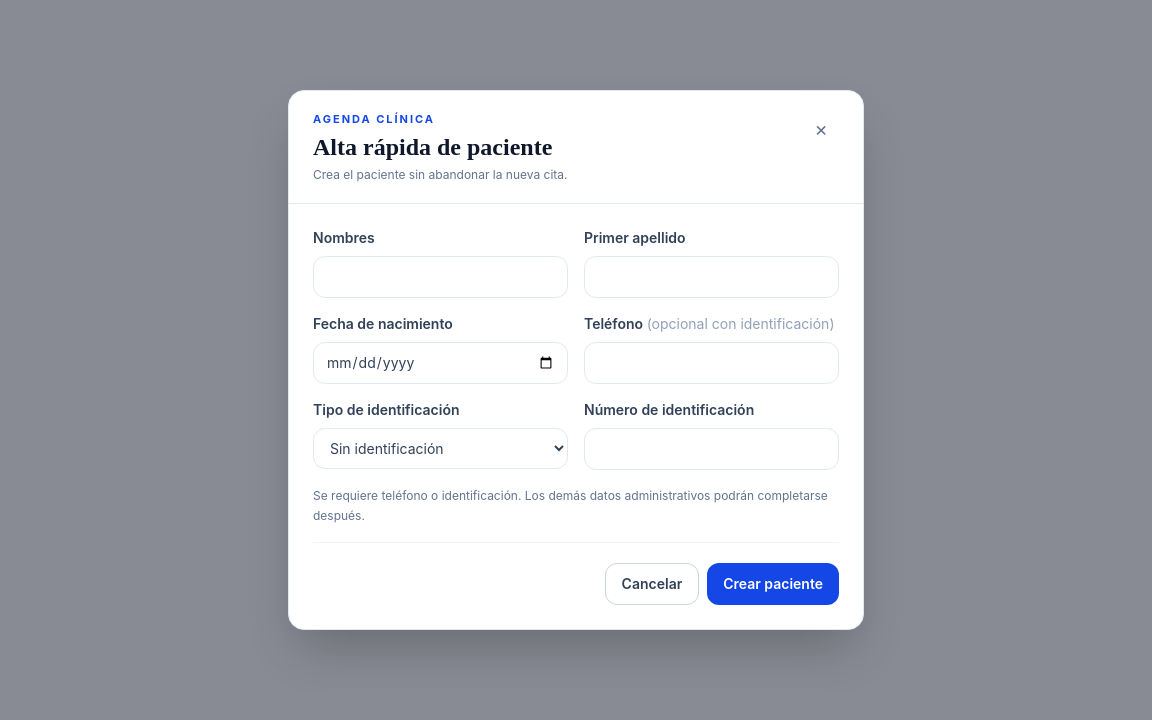
PatientQuickCreateDialog › does not allow selecting an inactive duplicate
The image size is (1152, 720).
Type "Ana" into the field labelled "Nombres" at [440, 277], box top-left (313, 256), bottom-right (568, 298)
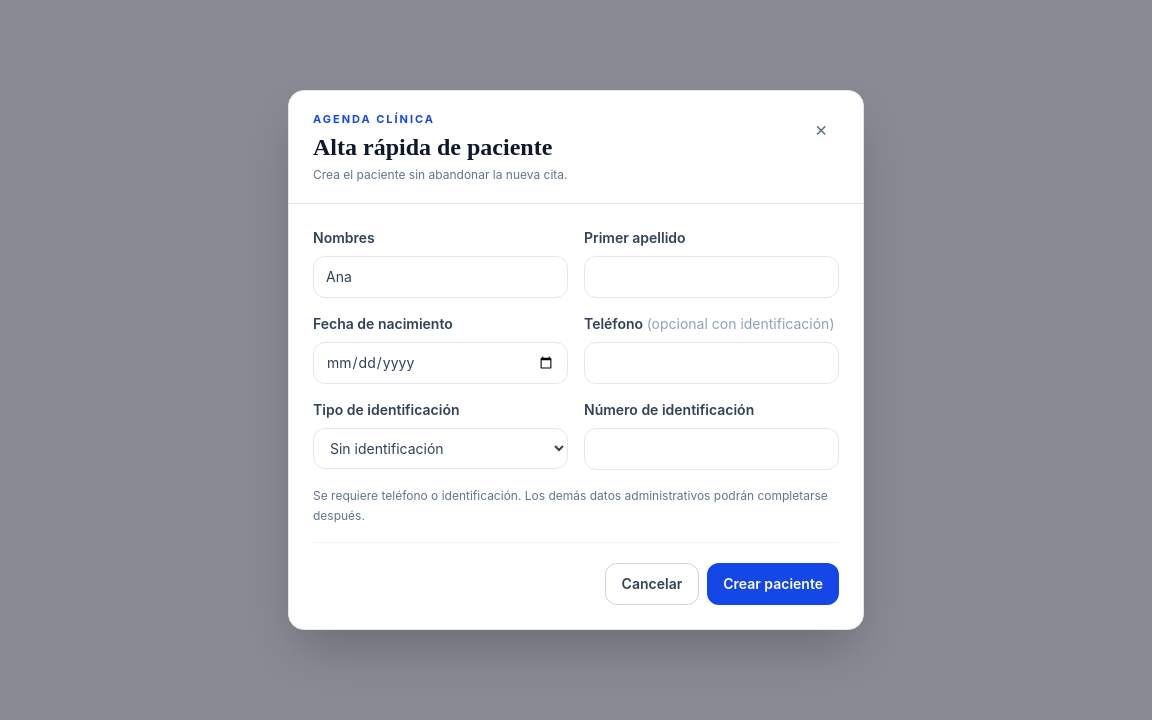
Type "López" into the field labelled "Primer apellido" at [712, 277], box top-left (584, 256), bottom-right (839, 298)
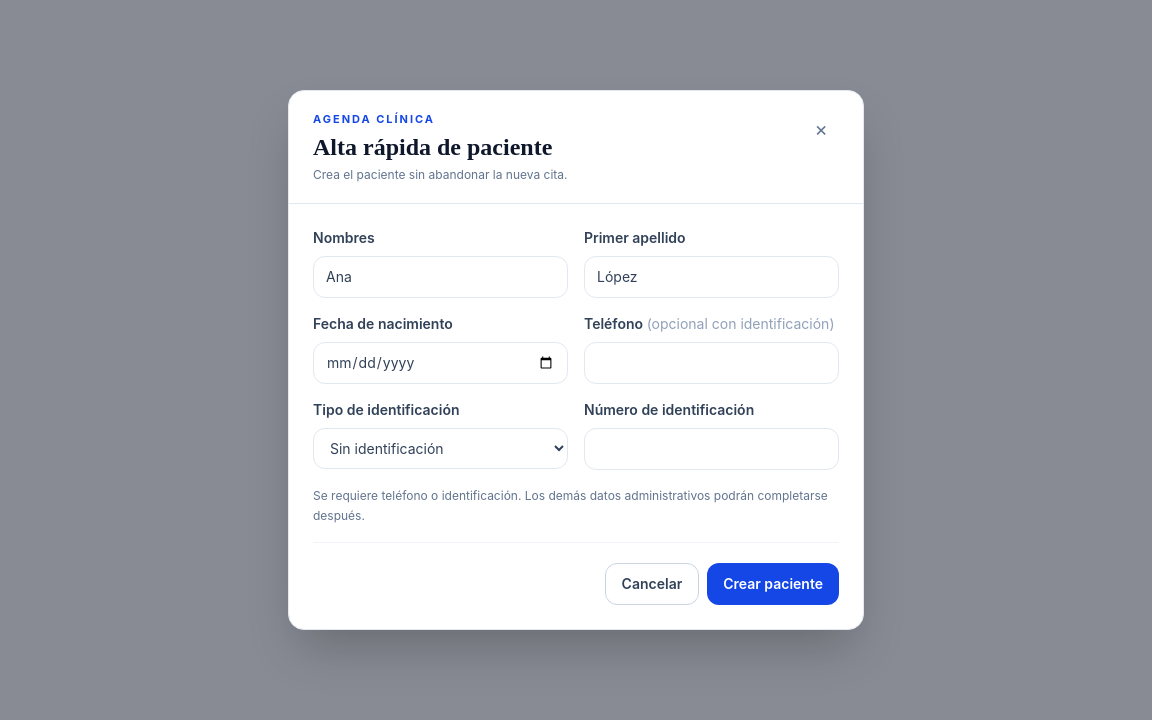
Type "1990-05-10" into the date field labelled "Fecha de nacimiento" at [440, 363], box top-left (313, 342), bottom-right (568, 384)
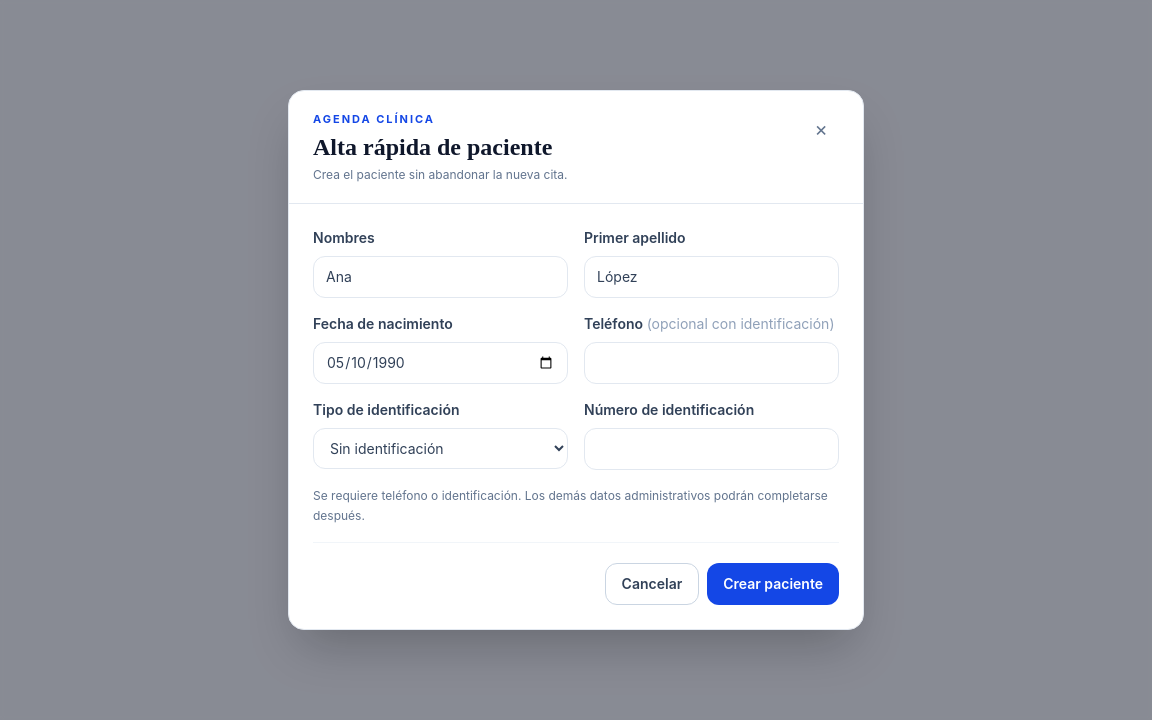
Type "8888-1111" into the field labelled "Teléfono" at [712, 363], box top-left (584, 342), bottom-right (839, 384)
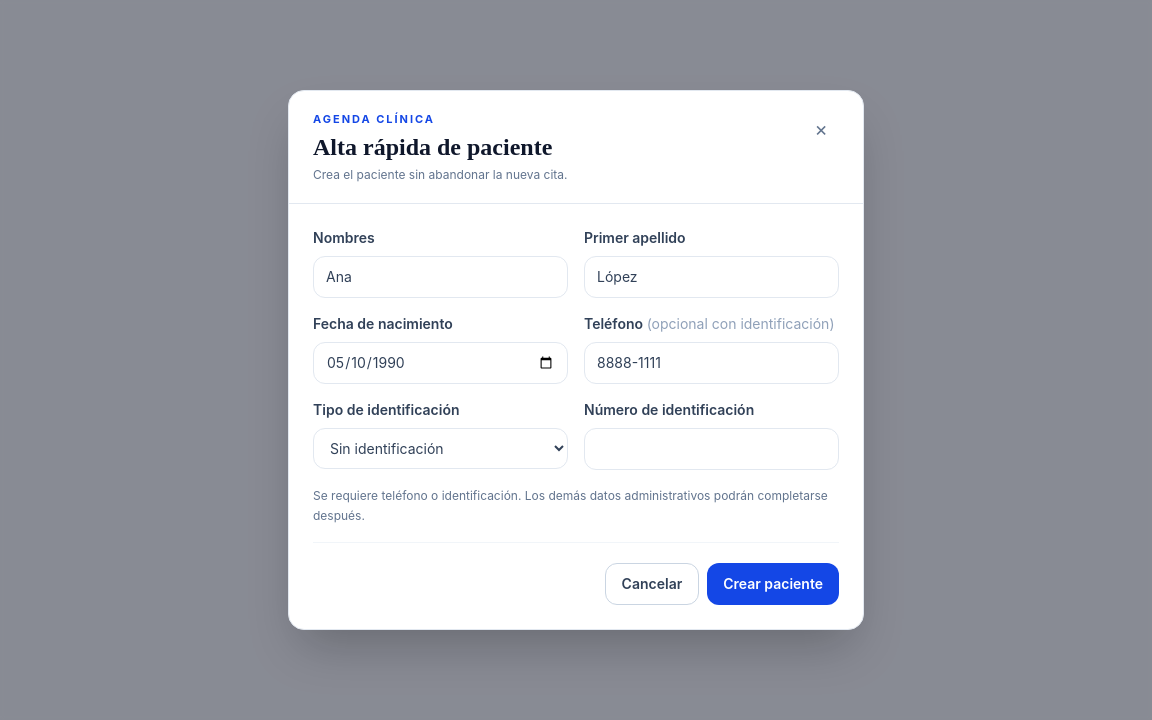
Click the button "Crear paciente" at [773, 584], box top-left (707, 563), bottom-right (839, 605)
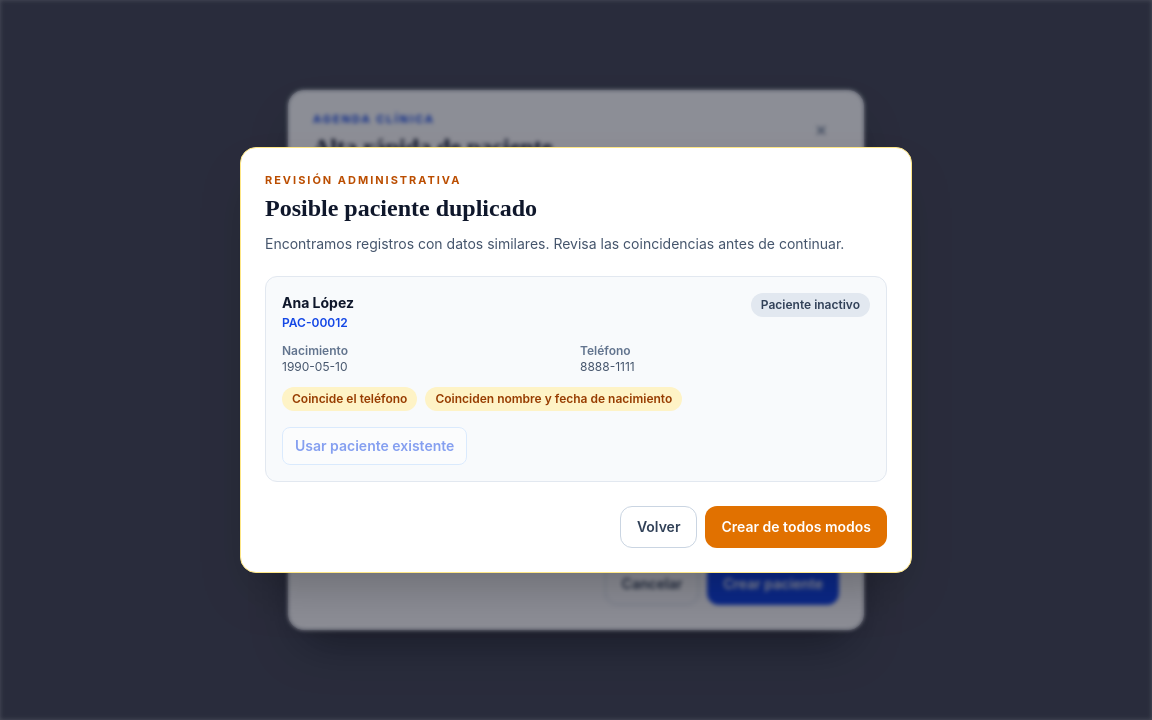
Expected: the button "Usar paciente existente" is disabled, top-left (282, 427), bottom-right (467, 465)
Expected: the text "Paciente inactivo" is shown, top-left (751, 293), bottom-right (870, 317)
